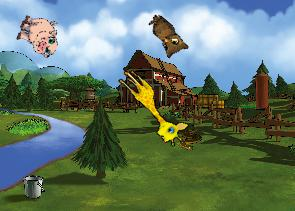giraffe: (108, 65, 193, 150)
owl: (138, 12, 192, 63)
pig: (12, 10, 64, 60)
